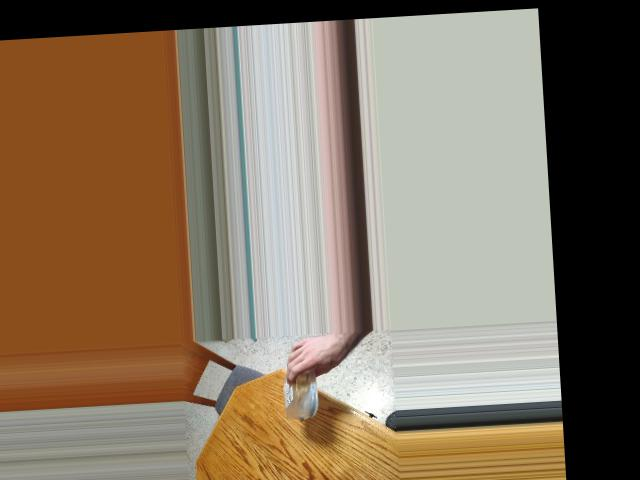cheese: (271, 349, 330, 416)
